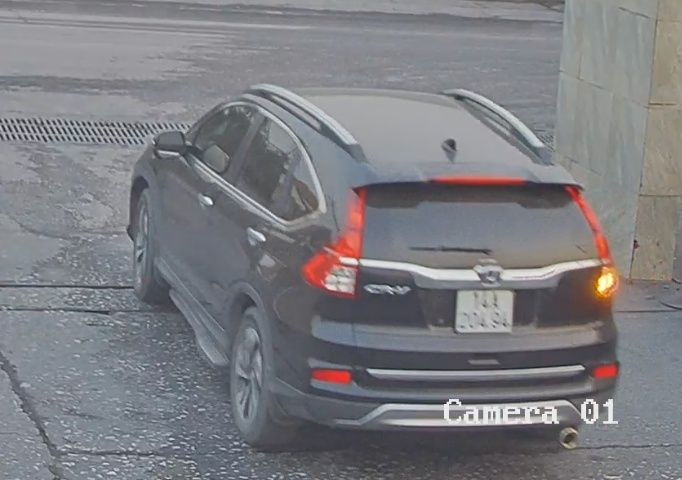vehicle plate: (454, 281, 515, 334)
